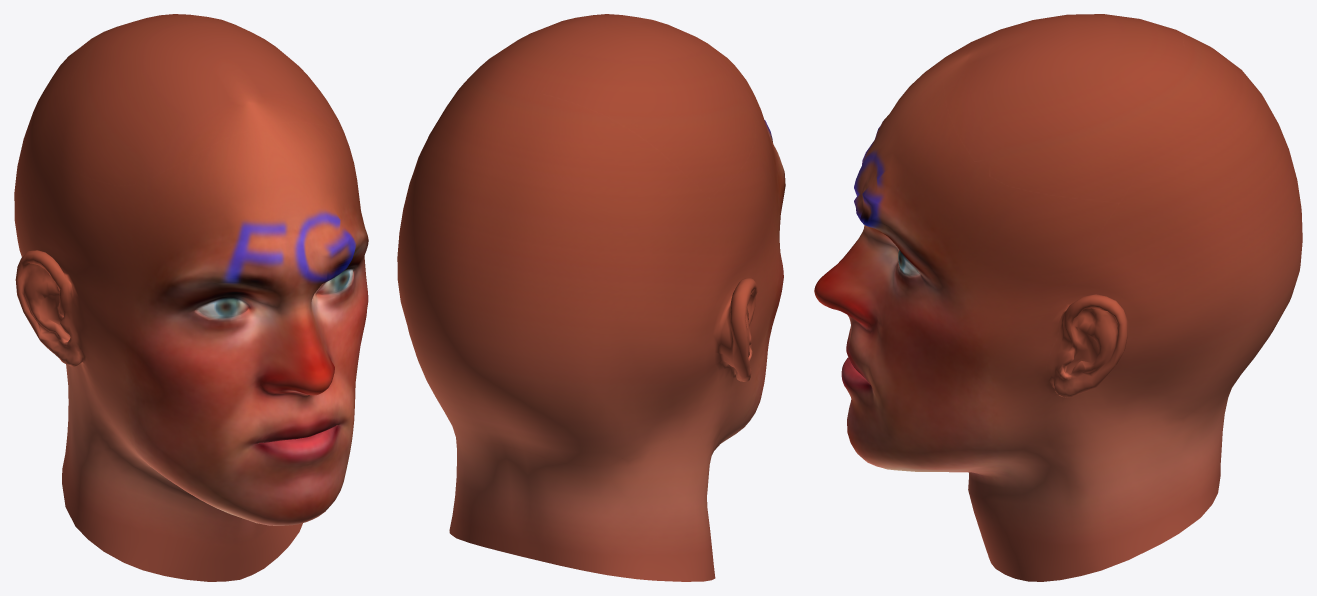
File: random_anyrace_anysex_04.obj
3 views of the same model, side by side, from view 1: azimuth 30°, elevation 25°; view 2: azimuth 150°, elevation 25°; view 3: azimuth 270°, elevation 25° (orthographic). The views are drawn at different scales.
Parts seen in each view (by area): view 1: HeadHires; view 2: HeadHires; view 3: HeadHires.
Boxes of the visible parts, x1,y1,x2,y2 form: HeadHires: [14, 14, 368, 581]; HeadHires: [397, 14, 785, 581]; HeadHires: [814, 14, 1302, 581].
Bounding box in the file's own units: 185 × 283 × 237.
3 materials, 3 textured.
